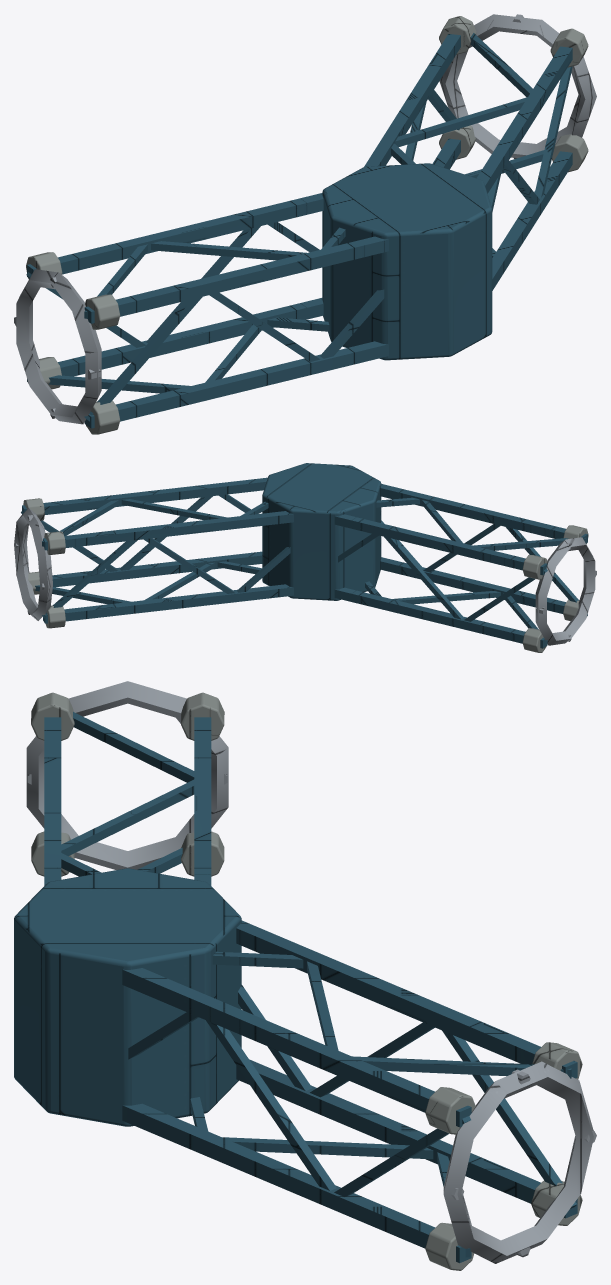
Rendered from truss_elbow_45_lod1.glb.
The picture shows the model from 3 angles, top to bottom: view 1: azimuth 30°, elevation 25°; view 2: azimuth 150°, elevation 25°; view 3: azimuth 270°, elevation 25°; orthographic projection. The views are drawn at different scales.
Parts seen in each view (by area): view 1: LOD1_Armor, LOD1_BrushedMetal, LOD1_Hull; view 2: LOD1_Armor, LOD1_BrushedMetal, LOD1_Hull; view 3: LOD1_Armor, LOD1_BrushedMetal, LOD1_Hull.
Part boxes in pixels (x1,y1,x2,y2): LOD1_Armor: (26, 33, 572, 428); LOD1_BrushedMetal: (14, 14, 596, 424); LOD1_Hull: (26, 16, 588, 434); LOD1_Armor: (21, 463, 587, 648); LOD1_BrushedMetal: (14, 508, 596, 645); LOD1_Hull: (23, 498, 588, 652); LOD1_Armor: (14, 712, 577, 1263); LOD1_BrushedMetal: (26, 681, 596, 1263); LOD1_Hull: (31, 692, 582, 1270).
Size of the model in its own units: 7.7 by 1.63 by 4.47.
3 materials, 3 textured.
